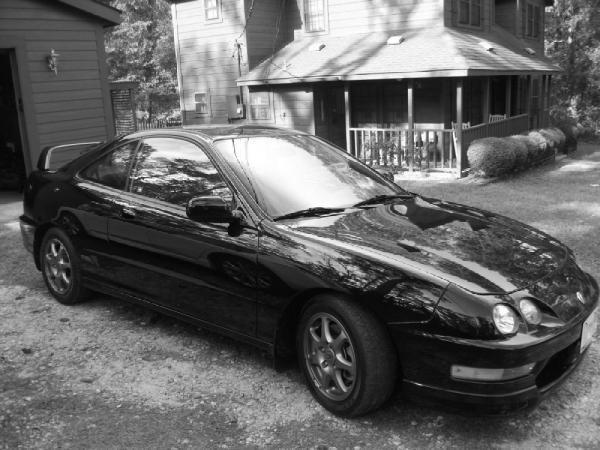car: (19, 126, 598, 421)
